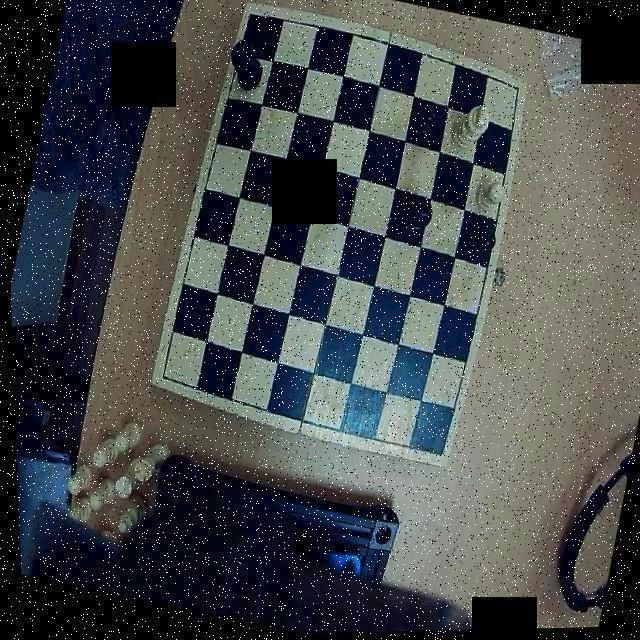chess-table-corners: (149, 357, 187, 392), (237, 4, 271, 38), (414, 432, 449, 464), (498, 76, 526, 108)
